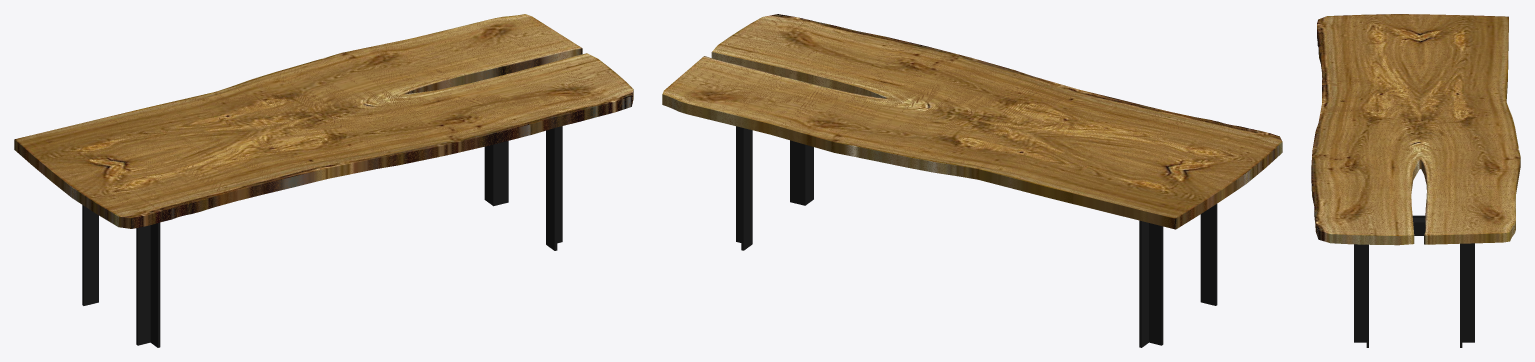
The model's file is table.dae.
3 views of the same model, side by side, from view 1: azimuth 30°, elevation 25°; view 2: azimuth 150°, elevation 25°; view 3: azimuth 270°, elevation 25° (orthographic). The views are drawn at different scales.
Visible parts, largest first — view 1: group_0, Group_2 (×4); view 2: group_0, Group_2 (×4); view 3: group_0, Group_2 (×2), group_1.
Part boxes in pixels (x1,y1,x2,y2): group_0: [14, 14, 633, 228]; Group_2 (×4): [82, 126, 562, 347]; group_0: [662, 14, 1282, 229]; Group_2 (×4): [736, 126, 1217, 347]; group_0: [1311, 14, 1520, 245]; Group_2 (×2): [1354, 243, 1474, 347]; group_1: [1412, 215, 1425, 235].
Bounding box in the file's own units: 104 × 41.5 × 29.5.
Materials: 3 (1 with a texture image).
